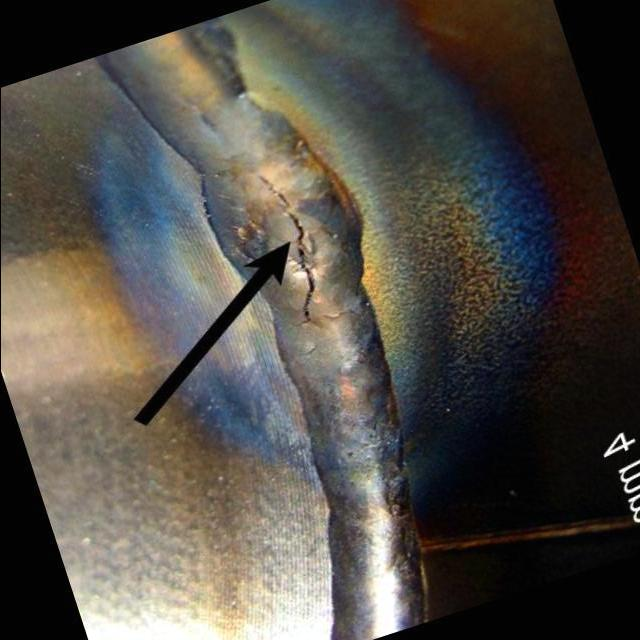defect: (254, 173, 324, 333)
